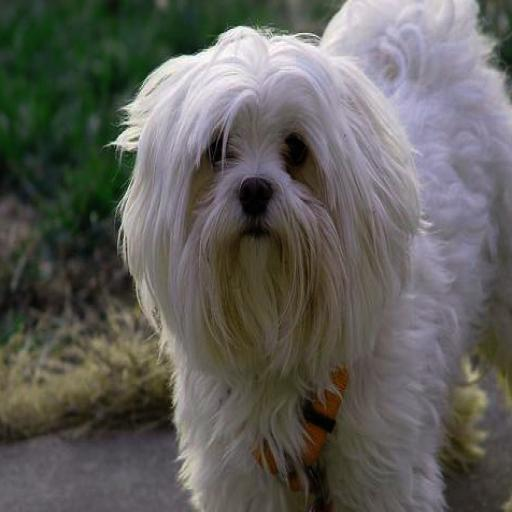dog_face: (138, 59, 358, 311)
